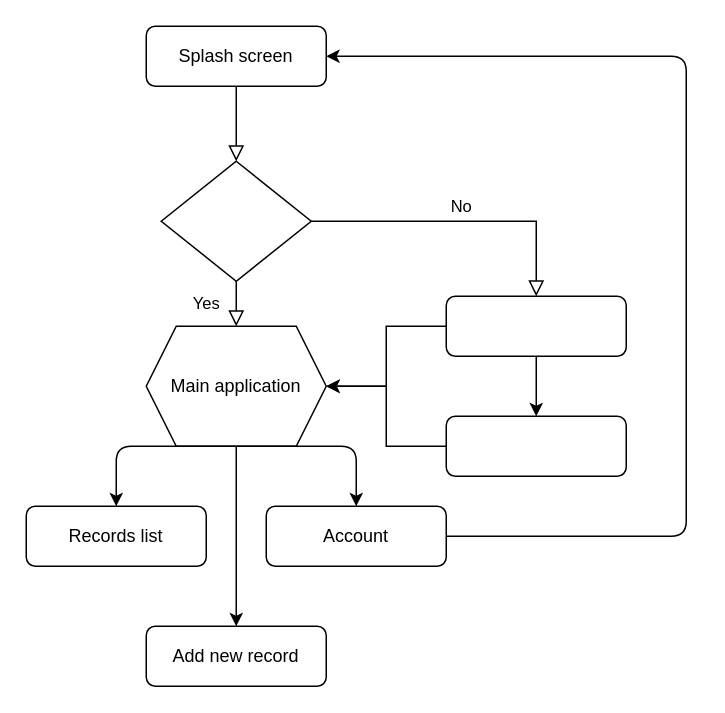
This 725x713 diagram has some shape labels left out. Here are the shapes that lost their labels. From the top down, the centre of each, then its label:
At point 235,220: "Is user logged in?".
At point 535,325: "Login screen".
At point 535,445: "Register screen".
